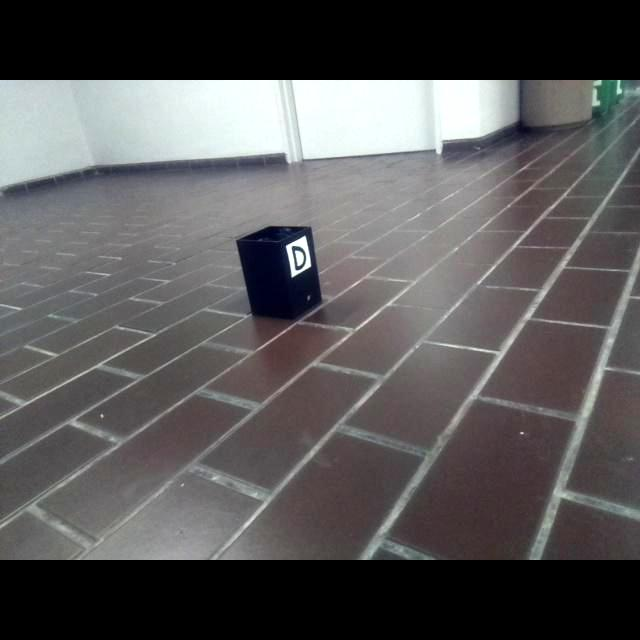D: (290, 245, 307, 272)
